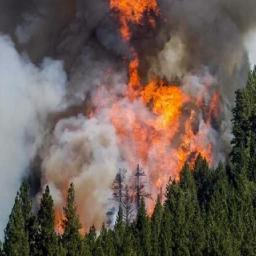Heavy smoke: (1, 0, 256, 234)
Large fire: (109, 1, 229, 220)
